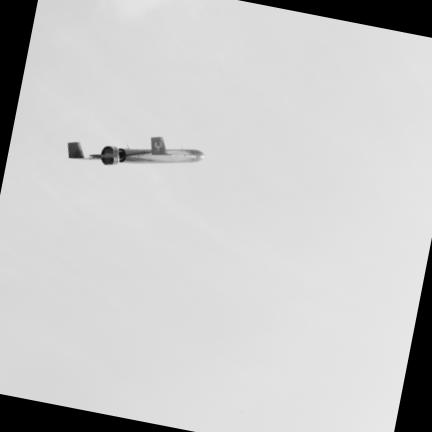Shahed: (67, 136, 206, 166)
